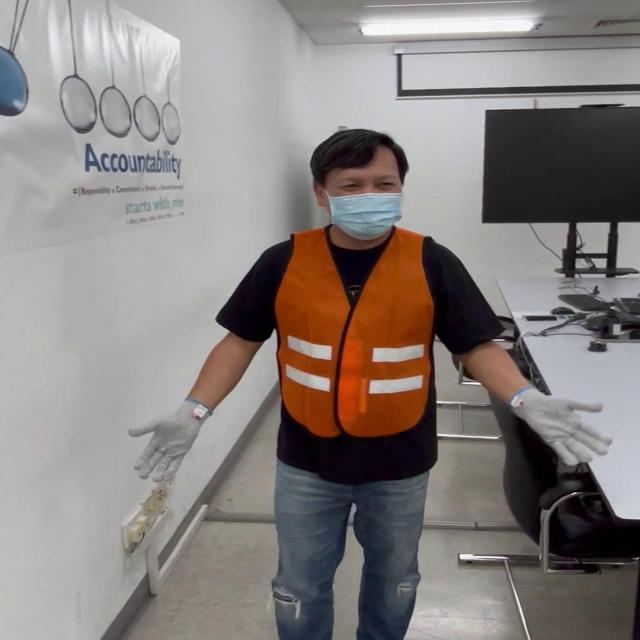gloved_hand: (505, 382, 612, 466), (132, 396, 209, 479)
